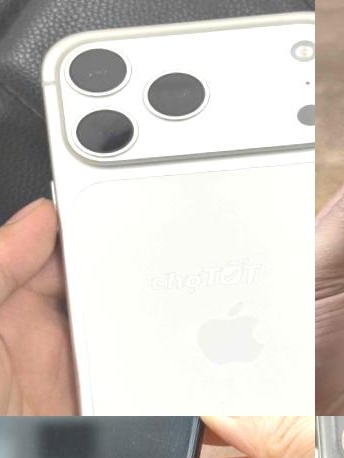scratch: (120, 416, 197, 458), (39, 435, 94, 458), (98, 417, 119, 444), (69, 416, 92, 429)
